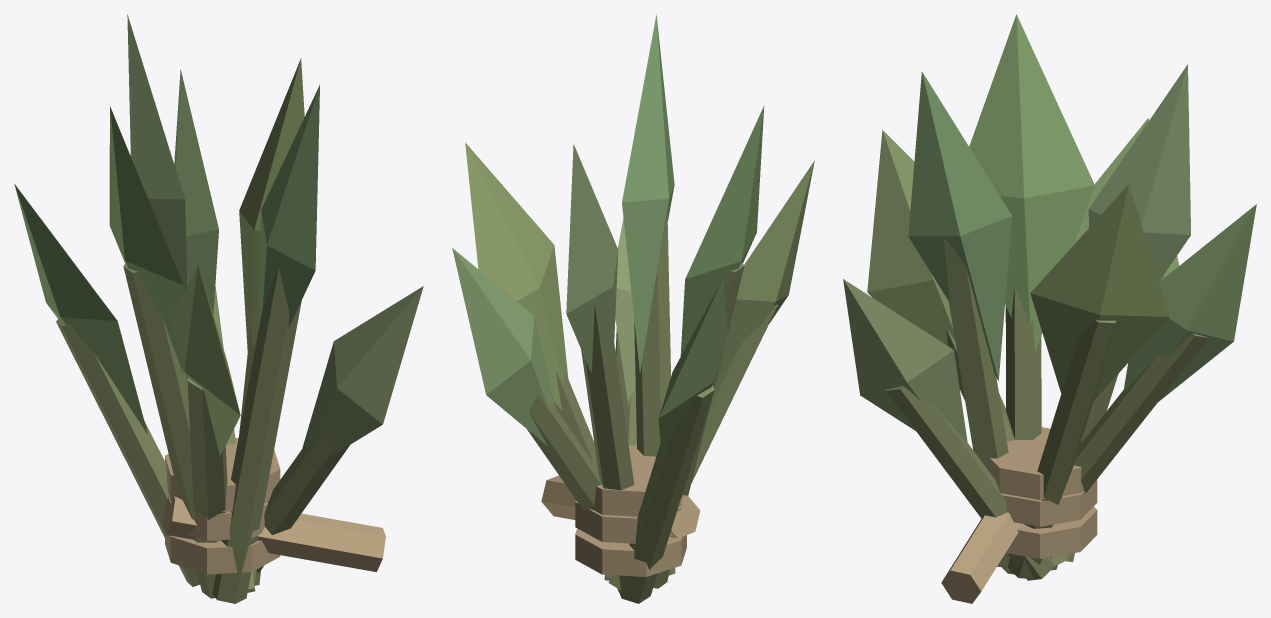
File: healing-herb.glb
3 renders of one model, left to right at view 1: azimuth 30°, elevation 25°; view 2: azimuth 150°, elevation 25°; view 3: azimuth 270°, elevation 25°, orthographic. The views are drawn at different scales.
Visible parts, largest first — view 1: healing-herb-06, healing-herb-11, healing-herb-07, healing-herb-01, healing-herb-13, healing-herb-12, healing-herb-03, healing-herb-00, healing-herb-19, healing-herb-09, healing-herb-05, healing-herb-15 (+5 smaller); view 2: healing-herb-05, healing-herb-07, healing-herb-15, healing-herb-13, healing-herb-03, healing-herb-00, healing-herb-09, healing-herb-02, healing-herb-06, healing-herb-01, healing-herb-14, healing-herb-16 (+8 smaller); view 3: healing-herb-13, healing-herb-07, healing-herb-05, healing-herb-15, healing-herb-03, healing-herb-11, healing-herb-09, healing-herb-06, healing-herb-04, healing-herb-14, healing-herb-10, healing-herb-12 (+7 smaller).
Part boxes in pixels (bbox=[...]): healing-herb-06: bbox=[212, 268, 301, 603]; healing-herb-11: bbox=[302, 286, 423, 456]; healing-herb-07: bbox=[258, 85, 319, 330]; healing-herb-01: bbox=[14, 184, 147, 434]; healing-herb-13: bbox=[109, 106, 183, 373]; healing-herb-12: bbox=[123, 263, 218, 598]; healing-herb-03: bbox=[127, 14, 187, 292]; healing-herb-00: bbox=[56, 318, 199, 586]; healing-herb-19: bbox=[163, 496, 385, 571]; healing-herb-09: bbox=[172, 265, 240, 455]; healing-herb-05: bbox=[239, 58, 304, 351]; healing-herb-15: bbox=[174, 69, 218, 314]; healing-herb-05: bbox=[465, 142, 568, 410]; healing-herb-07: bbox=[622, 14, 674, 372]; healing-herb-15: bbox=[452, 248, 555, 445]; healing-herb-13: bbox=[680, 105, 764, 356]; healing-herb-03: bbox=[566, 144, 618, 373]; healing-herb-00: bbox=[618, 385, 714, 603]; healing-herb-09: bbox=[716, 160, 814, 380]; healing-herb-02: bbox=[581, 304, 634, 591]; healing-herb-06: bbox=[634, 213, 675, 575]; healing-herb-01: bbox=[658, 279, 727, 456]; healing-herb-14: bbox=[527, 394, 601, 510]; healing-herb-16: bbox=[575, 528, 686, 576]; healing-herb-13: bbox=[969, 14, 1094, 352]; healing-herb-07: bbox=[908, 72, 1012, 380]; healing-herb-05: bbox=[1030, 184, 1169, 400]; healing-herb-15: bbox=[1123, 204, 1256, 401]; healing-herb-03: bbox=[1088, 64, 1190, 281]; healing-herb-11: bbox=[843, 279, 967, 442]; healing-herb-09: bbox=[867, 130, 954, 345]; healing-herb-06: bbox=[944, 240, 1008, 566]; healing-herb-04: bbox=[1008, 319, 1116, 578]; healing-herb-14: bbox=[998, 333, 1208, 574]; healing-herb-10: bbox=[886, 386, 1054, 580]; healing-herb-12: bbox=[1005, 286, 1041, 439].
Size of the model in its own units: 0.155 by 0.2899 by 0.21.
